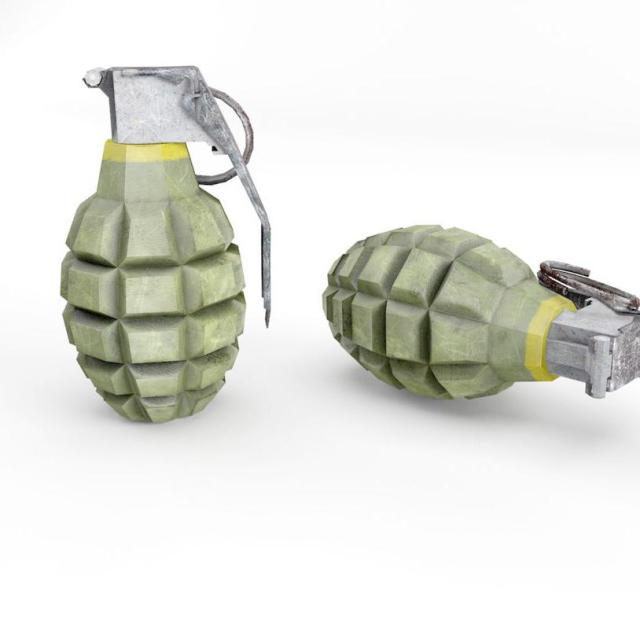grenade: (60, 66, 272, 425), (322, 224, 640, 426)
